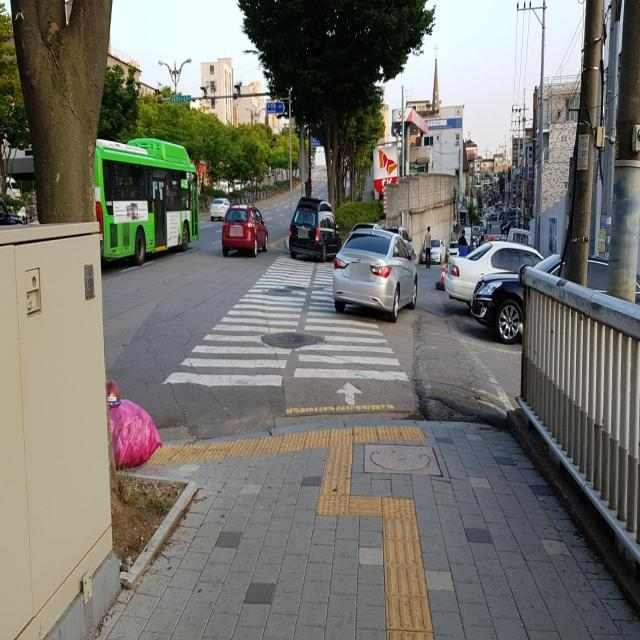횡단보도: (159, 248, 411, 410)
